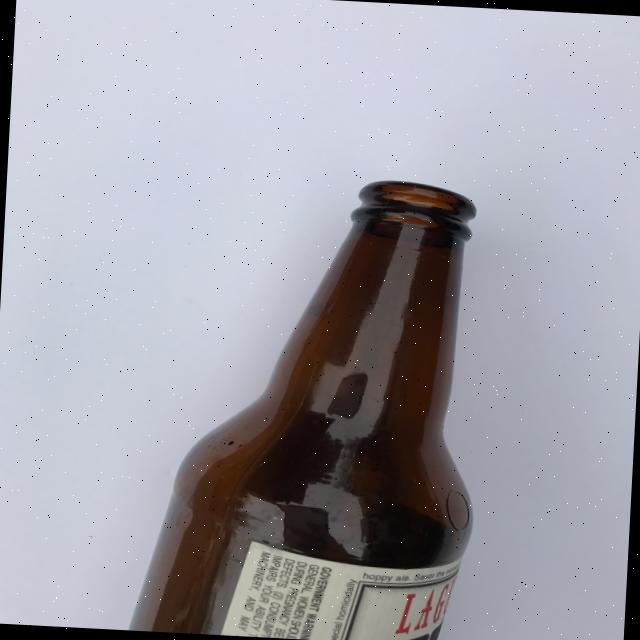glass: (128, 167, 492, 640)
